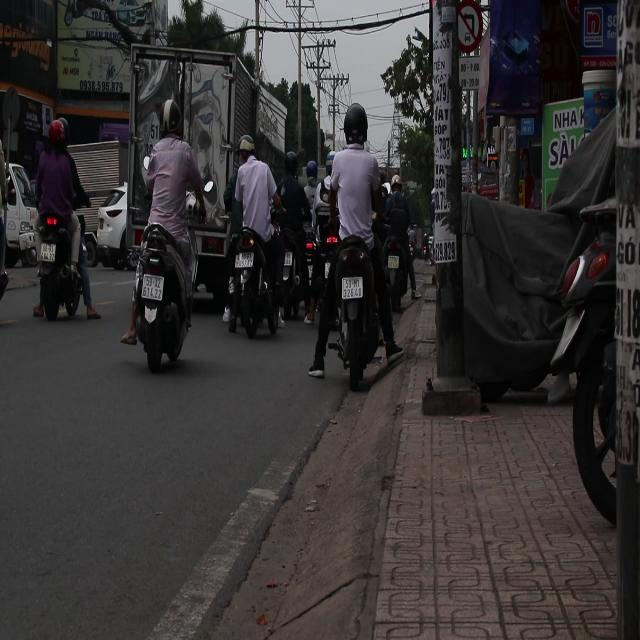car: (4, 164, 41, 267), (87, 188, 129, 270)
motorbike: (124, 205, 198, 372), (314, 228, 388, 392), (35, 207, 92, 321), (224, 222, 279, 340)
truck: (127, 16, 300, 284)
